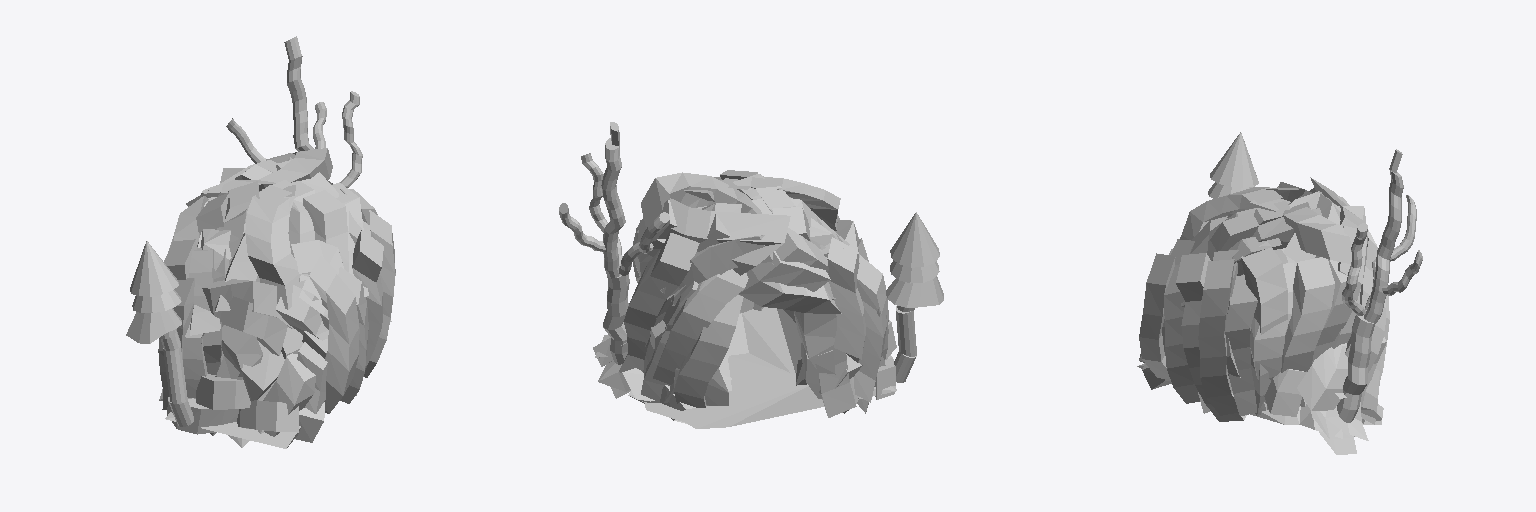
The model's file is cuevaFea.obj.
The picture shows the model from 3 angles: view 1: azimuth 30°, elevation 25°; view 2: azimuth 150°, elevation 25°; view 3: azimuth 270°, elevation 25°; orthographic projection.
Visible parts, largest first — view 1: group[number redacted], group[number redacted], group[number redacted], group[number redacted], group[number redacted], group[number redacted], group[number redacted], group[number redacted]; view 2: group[number redacted], group[number redacted], group[number redacted], group[number redacted], group[number redacted], group[number redacted]; view 3: group[number redacted], group[number redacted].
Boxes of the visible parts, <box> form: group[number redacted]: <box>158,36,395,448</box>; group[number redacted]: <box>167,398,298,434</box>; group[number redacted]: <box>183,247,214,398</box>; group[number redacted]: <box>196,374,275,409</box>; group[number redacted]: <box>130,241,178,296</box>; group[number redacted]: <box>126,308,181,343</box>; group[number redacted]: <box>163,347,187,403</box>; group[number redacted]: <box>132,290,181,312</box>; group[number redacted]: <box>559,122,896,428</box>; group[number redacted]: <box>890,212,939,267</box>; group[number redacted]: <box>886,276,943,307</box>; group[number redacted]: <box>896,306,916,356</box>; group[number redacted]: <box>890,260,939,283</box>; group[number redacted]: <box>875,355,895,399</box>; group[number redacted]: <box>1137,149,1422,454</box>; group[number redacted]: <box>1210,132,1258,187</box>.
Bounding box in the file's own units: 0.7521 × 0.7301 × 0.6197.